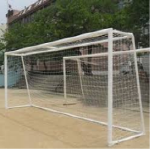goals: (3, 26, 148, 146)
